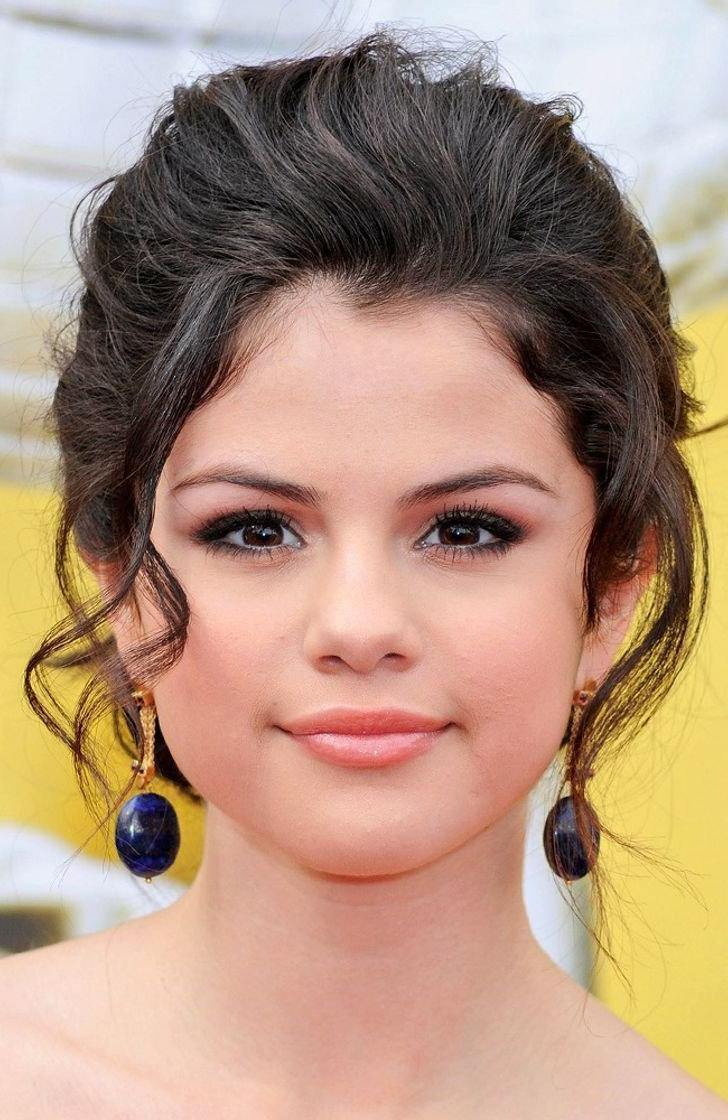Sober: (161, 323, 580, 828)
